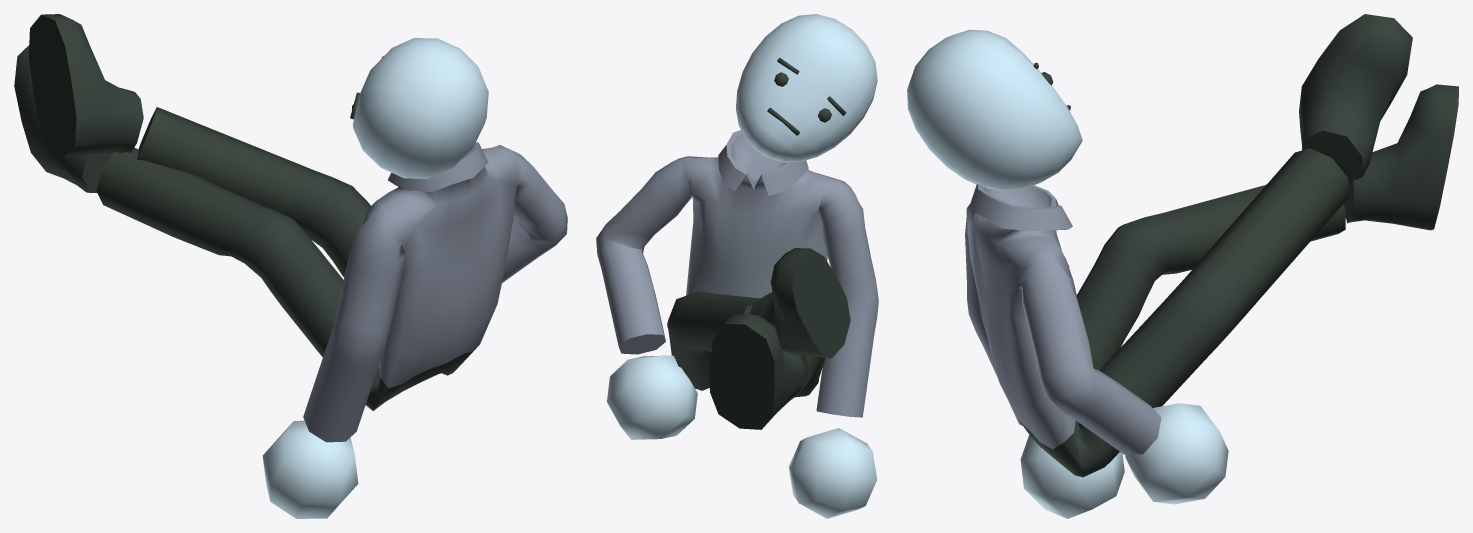
The model's file is npc4.fbx.
The picture shows the model from 3 angles, left to right: view 1: azimuth 30°, elevation 25°; view 2: azimuth 150°, elevation 25°; view 3: azimuth 270°, elevation 25°; orthographic projection. The views are drawn at different scales.
Visible parts, largest first — view 1: npc4; view 2: npc4; view 3: npc4.
Boxes of the visible parts, x1,y1,x2,y2 form: npc4: (14, 14, 567, 518); npc4: (596, 14, 878, 518); npc4: (907, 14, 1458, 518).
Size of the model in its own units: 86.81 by 105 by 103.
